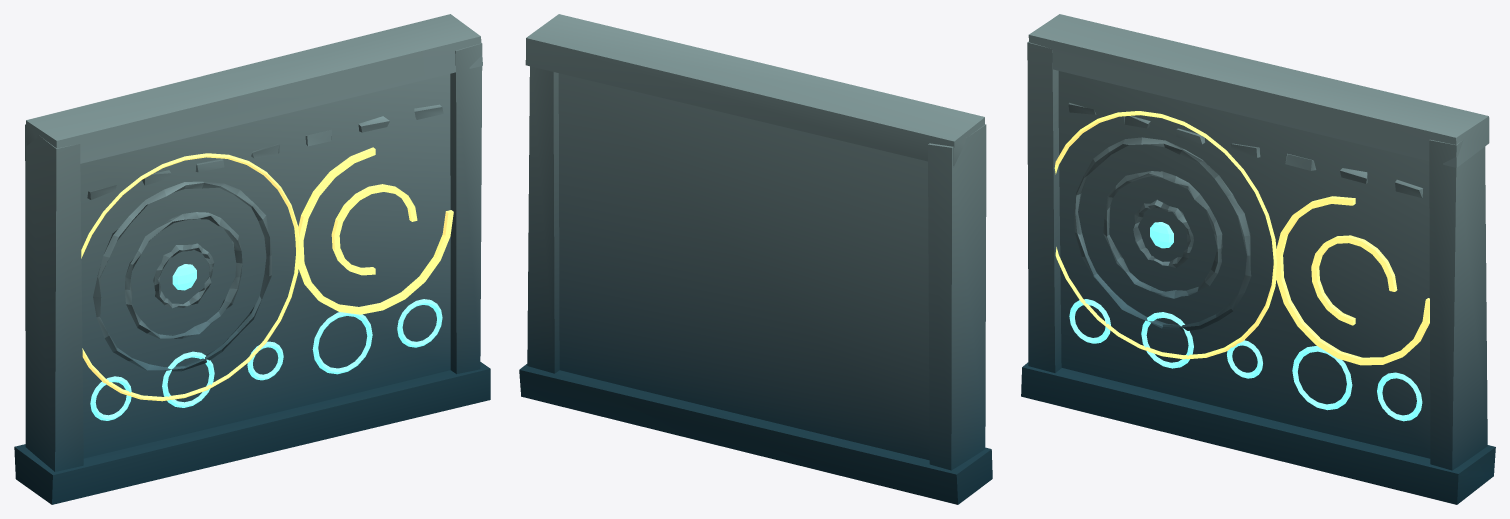
Rendered from prop_mural_panel.glb.
3 renders of one model, left to right at view 1: azimuth 30°, elevation 25°; view 2: azimuth 150°, elevation 25°; view 3: azimuth 330°, elevation 25°, orthographic.
Parts seen in each view (by area): view 1: prop_mural_panel_stone, prop_mural_panel_amber, prop_mural_panel_glow; view 2: prop_mural_panel_stone; view 3: prop_mural_panel_stone, prop_mural_panel_amber, prop_mural_panel_glow.
Boxes of the visible parts, x1,y1,x2,y2 form: prop_mural_panel_stone: (14,14,490,504); prop_mural_panel_amber: (81,147,453,401); prop_mural_panel_glow: (90,264,442,420); prop_mural_panel_stone: (519,14,992,504); prop_mural_panel_stone: (1021,14,1495,504); prop_mural_panel_amber: (1054,111,1429,365); prop_mural_panel_glow: (1069,222,1422,421).
Bounding box in the file's own units: 4.83 × 3.81 × 0.7375.
